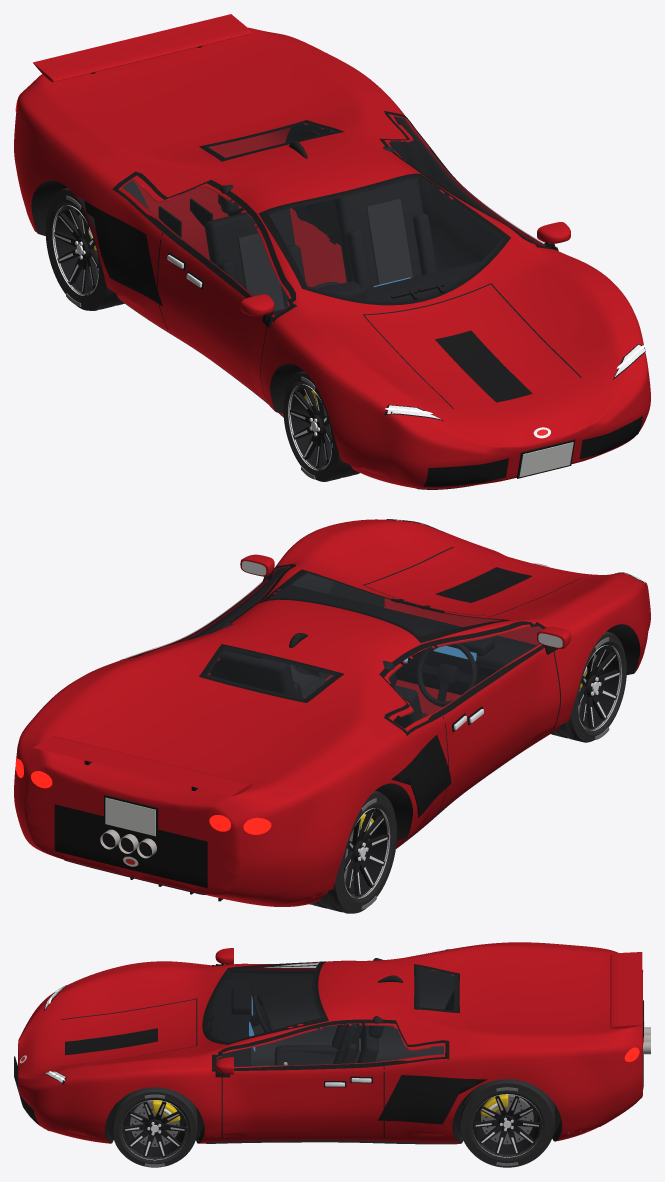
Rendered from laferrari.glb.
3 views of the same model, one above another, from view 1: azimuth 30°, elevation 25°; view 2: azimuth 150°, elevation 25°; view 3: azimuth 270°, elevation 25° (orthographic). The views are drawn at different scales.
Parts seen in each view (by area): view 1: Body, Wheel_RR, Wheel_FR; view 2: Body, Wheel_RR, Wheel_FR; view 3: Body, Wheel_RL, Wheel_FL.
Part boxes in pixels (<box>): Body: <box>14,14,650,489</box>; Wheel_RR: <box>45,188,124,310</box>; Wheel_FR: <box>283,371,359,481</box>; Body: <box>14,518,650,906</box>; Wheel_RR: <box>309,790,396,913</box>; Wheel_FR: <box>551,631,626,742</box>; Body: <box>14,942,650,1144</box>; Wheel_RL: <box>459,1079,554,1167</box>; Wheel_FL: <box>112,1087,197,1167</box>.
Size of the model in its own units: 2.13 by 1.16 by 4.79.
